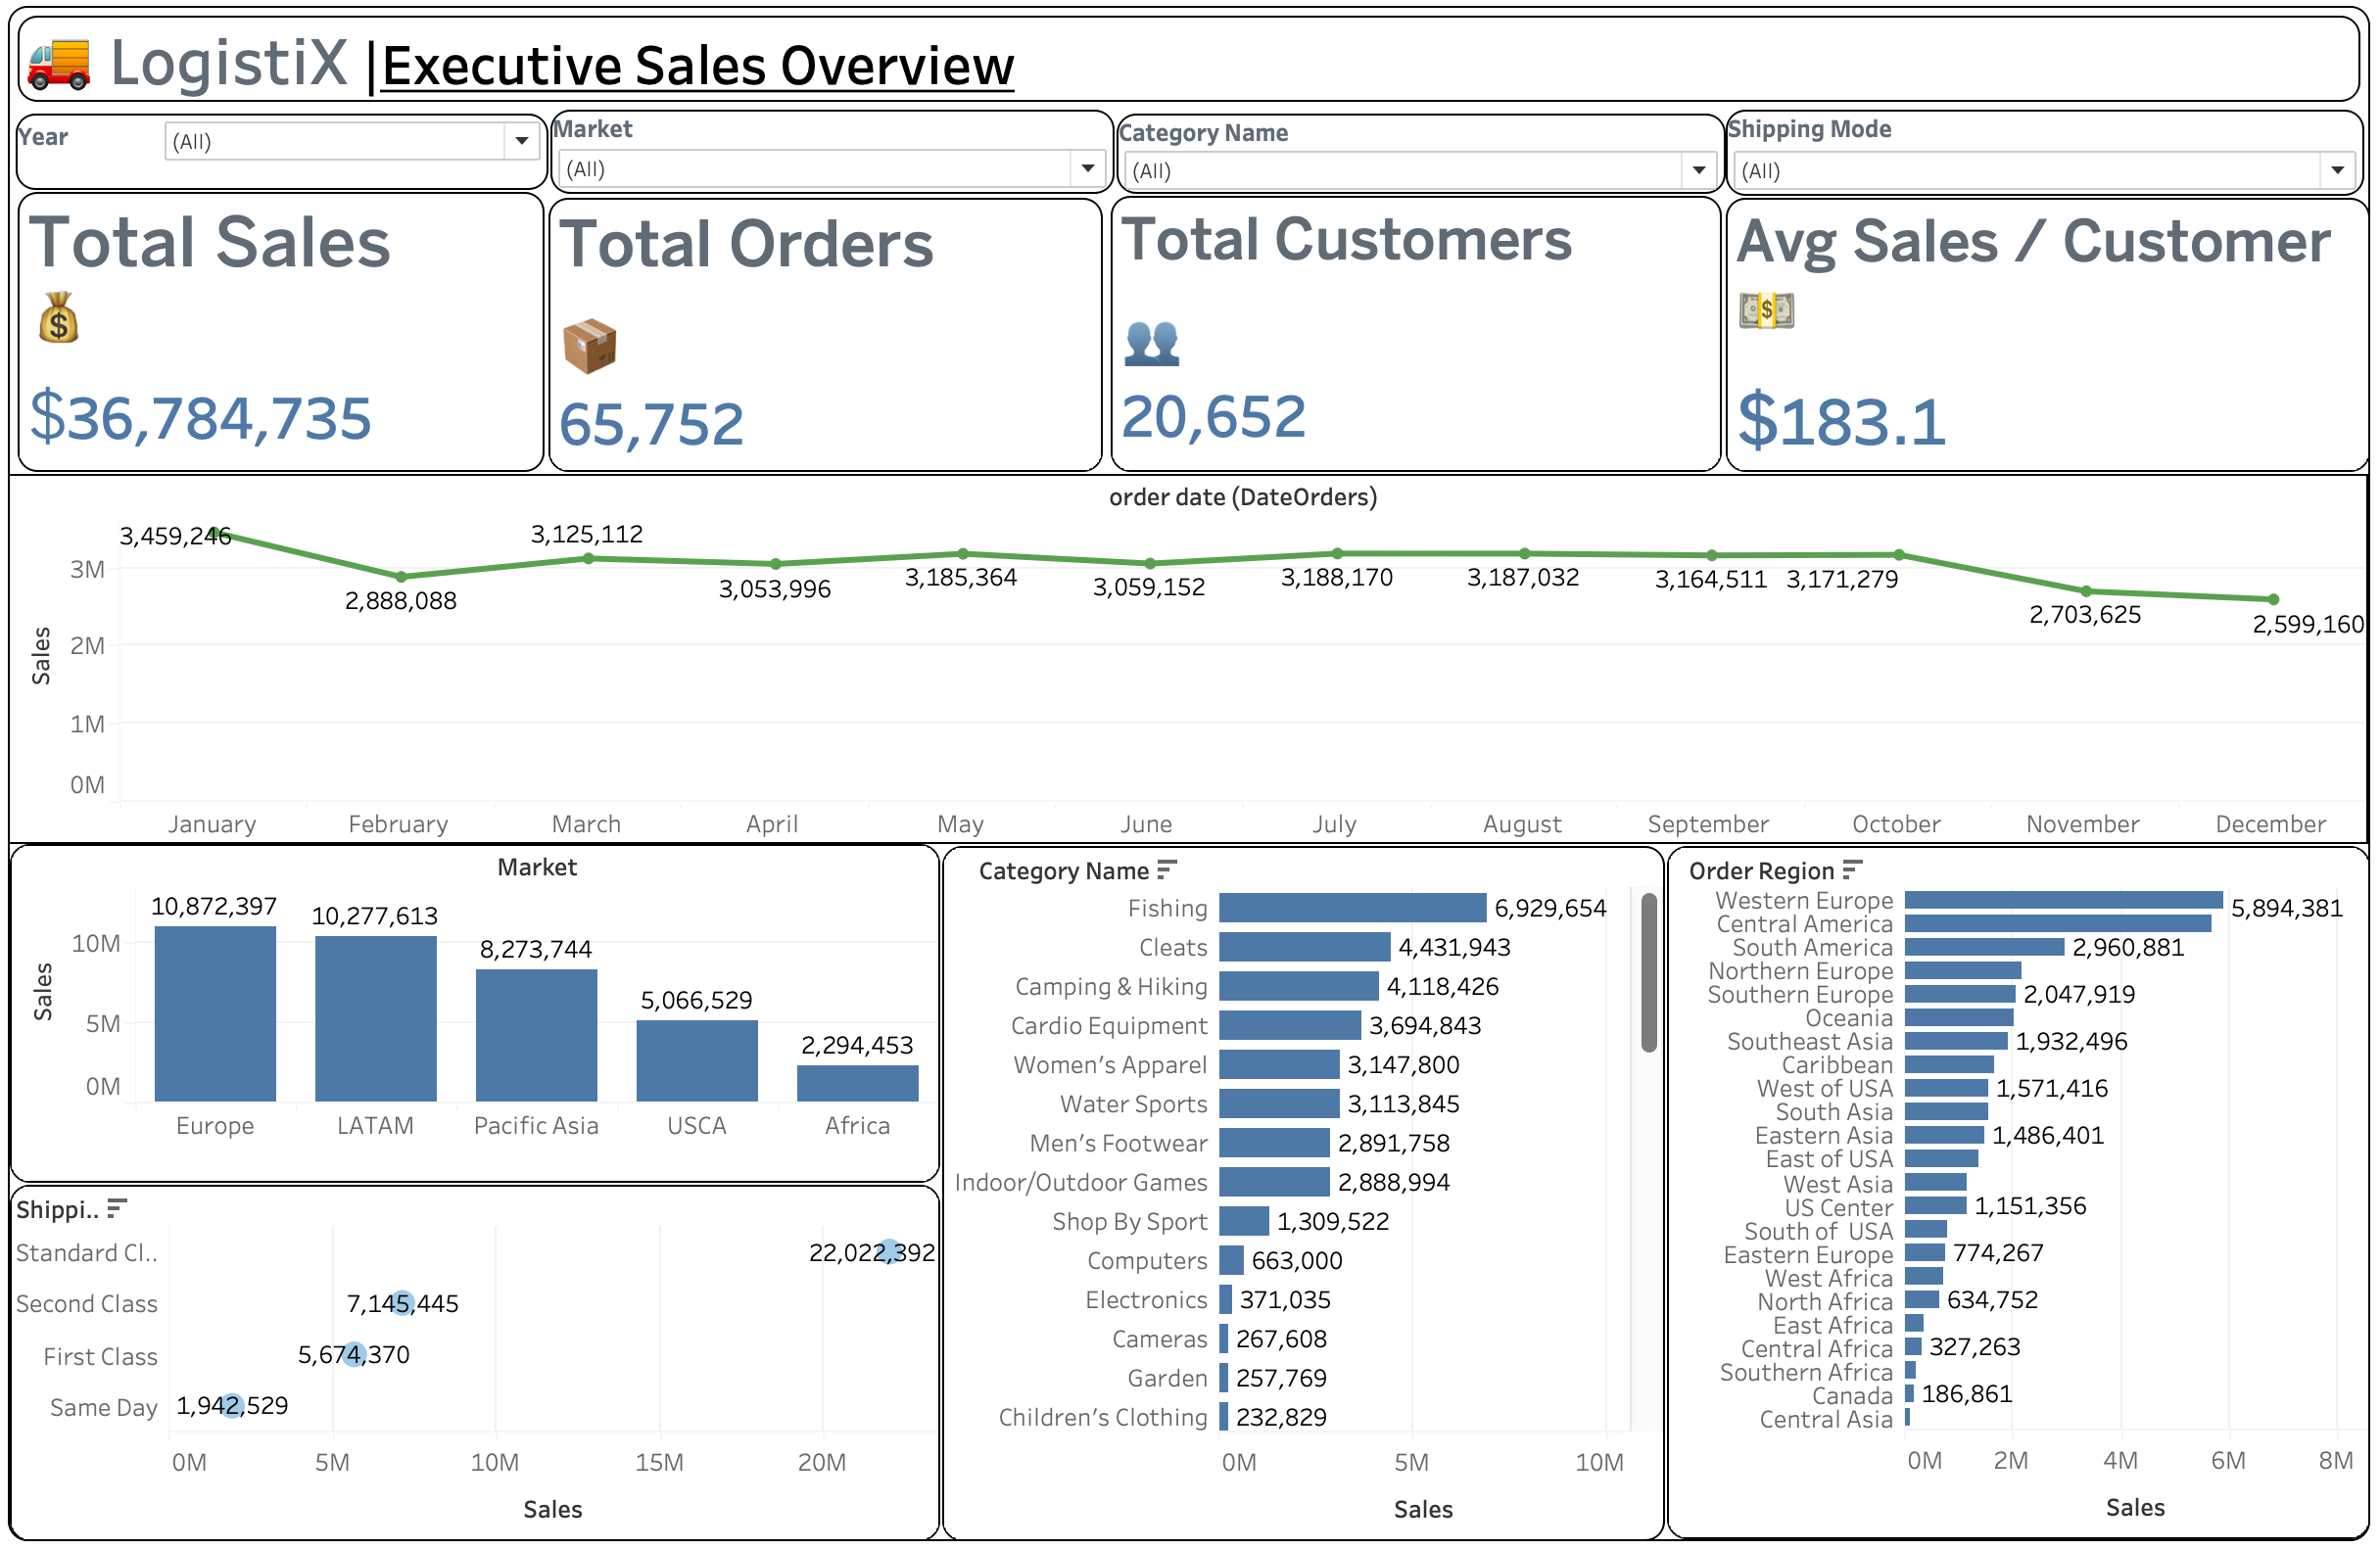

This screenshot's page, from the dashboard's own definition file:
{"tool":"tableau","page":{"name":"🚚 LogistiX |Executive Sales Overview","canvas":[1222,800],"ordinal":1},"visuals":[{"type":"title","box":[9,9,1204,52]},{"type":"filter","title":"📈 Monthly Sales Trend","param":"[federated.0ue46na07isqf50zyf6wb1y4oivp].[none:Market:nk]","box":[285,61,288,43]},{"type":"filter","title":"📈 Monthly Sales Trend","param":"[federated.0ue46na07isqf50zyf6wb1y4oivp].[none:Shipping Mode:nk]","box":[885,61,326,44]},{"type":"filter","title":"📈 Monthly Sales Trend","param":"[federated.0ue46na07isqf50zyf6wb1y4oivp].[yr:order date (DateOrders):ok]","box":[12,63,272,39]},{"type":"filter","title":"📈 Monthly Sales Trend","param":"[federated.0ue46na07isqf50zyf6wb1y4oivp].[none:Category Name:nk]","box":[574,63,311,41]},{"type":"worksheet","title":"Total Sales","mark":"Automatic","box":[13,103,269,143]},{"type":"worksheet","title":"Total Customers","mark":"Automatic","box":[571,105,312,141]},{"type":"worksheet","title":"Total Orders","mark":"Automatic","box":[284,106,283,140]},{"type":"worksheet","title":"Avg Sales / Customer","mark":"Automatic","box":[885,106,329,140]},{"type":"worksheet","title":"📈 Monthly Sales Trend","mark":"Line","rows":["Sales"],"cols":["order date (DateOrders)"],"box":[8,247,1205,189]},{"type":"worksheet","title":"🌍 Sales by Market","mark":"Bar","rows":["Sales"],"cols":["Market"],"box":[9,436,475,173]},{"type":"worksheet","title":"🏷️ Sales by Category","mark":"Automatic","rows":["Category Name"],"cols":["Sales"],"box":[485,437,369,355]},{"type":"worksheet","title":"📍 Sales by Order Region","mark":"Automatic","rows":["Order Region"],"cols":["Sales"],"box":[855,437,359,354]},{"type":"worksheet","title":"🚚 Sales by Shipping Mode","mark":"Pie","rows":["Shipping Mode"],"cols":["Sales"],"box":[9,610,475,182]}]}

Visuals, with their boxes in screenshot pixels (x1, y1, x2, y2), scaled from the page's 1222x800 canvas onto the 2380x1549 screenshot:
title: [18,18,2362,118]
"📈 Monthly Sales Trend" filter: [555,118,1116,202]
"📈 Monthly Sales Trend" filter: [1724,118,2358,204]
"📈 Monthly Sales Trend" filter: [24,122,553,198]
"📈 Monthly Sales Trend" filter: [1118,122,1724,202]
"Total Sales" worksheet: [25,200,549,476]
"Total Customers" worksheet: [1112,204,1720,476]
"Total Orders" worksheet: [553,206,1105,476]
"Avg Sales / Customer" worksheet: [1724,206,2364,476]
"📈 Monthly Sales Trend" worksheet (Line marks): [16,478,2362,844]
"🌍 Sales by Market" worksheet (Bar marks): [18,844,942,1179]
"🏷️ Sales by Category" worksheet: [944,846,1663,1533]
"📍 Sales by Order Region" worksheet: [1665,846,2364,1531]
"🚚 Sales by Shipping Mode" worksheet (Pie marks): [18,1181,942,1533]
